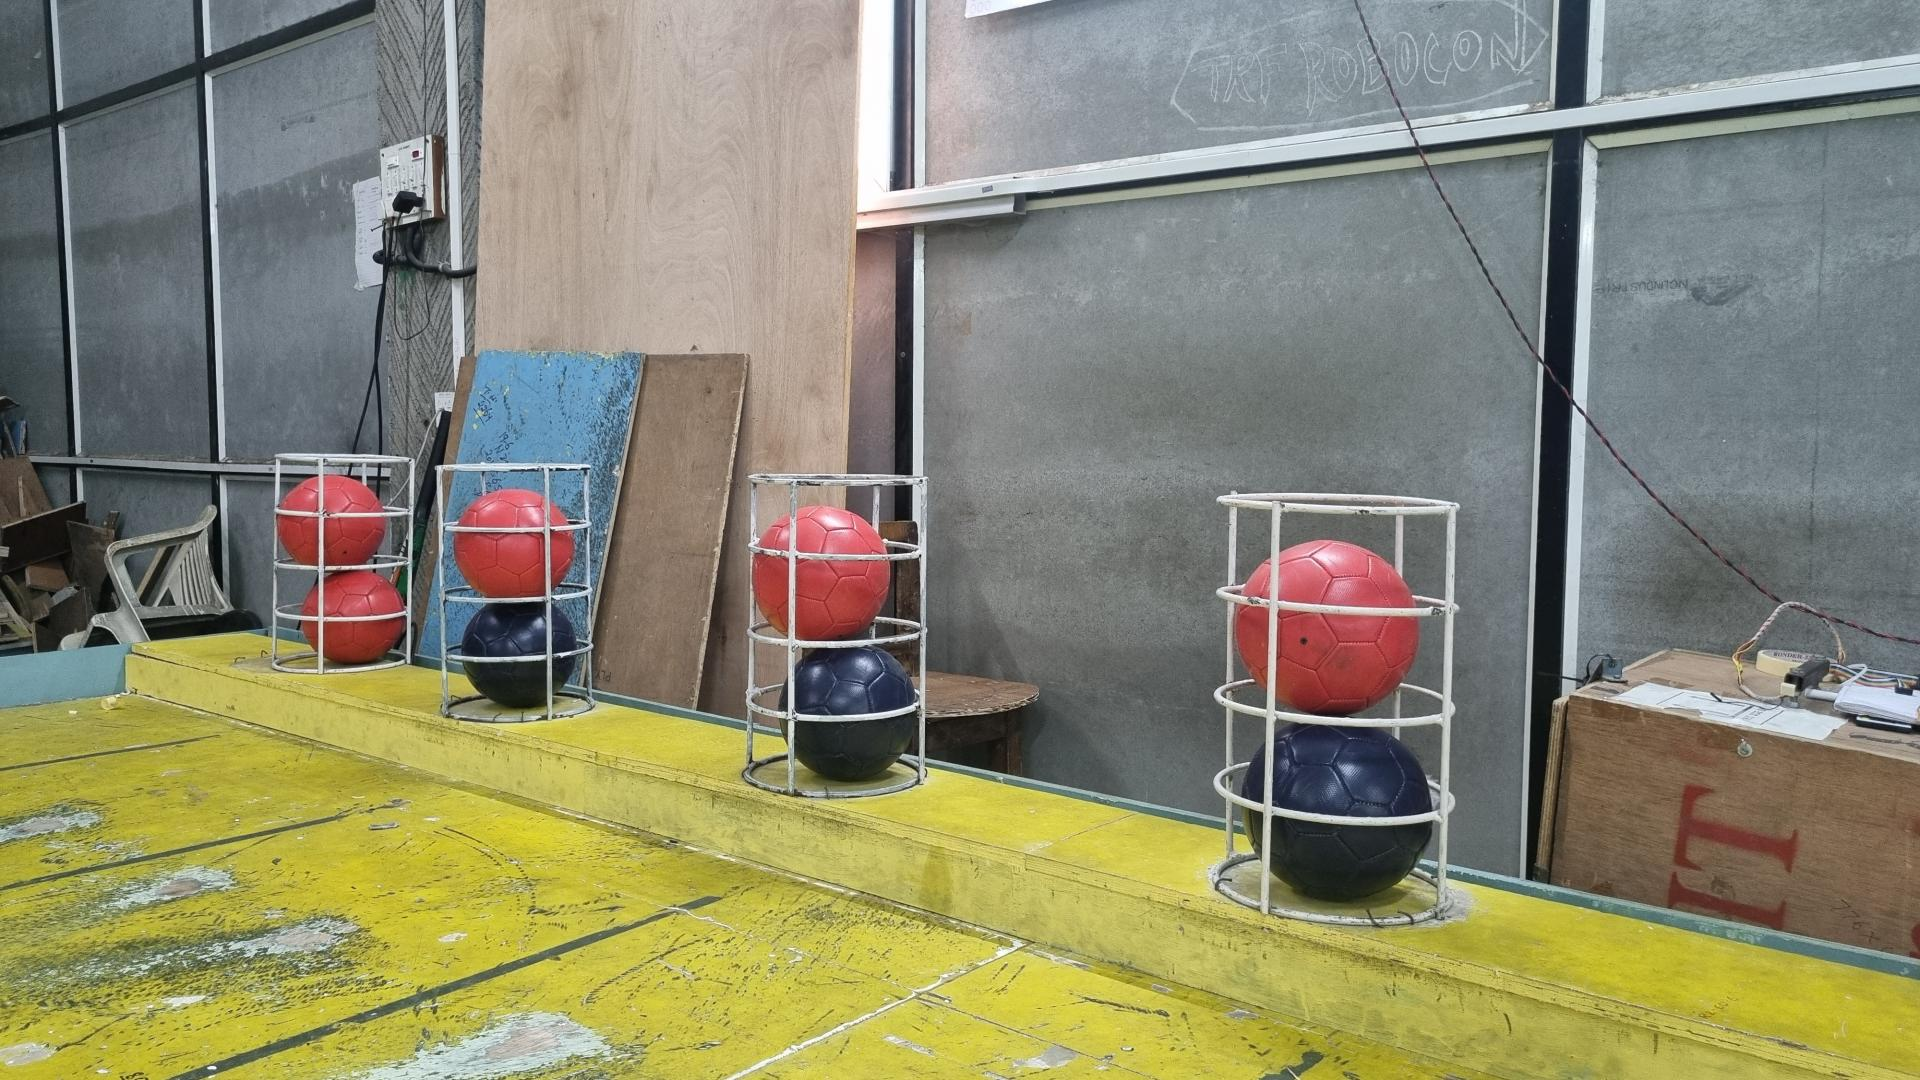dhoka: (1241, 723, 1440, 903), (781, 649, 919, 783), (462, 600, 582, 708)
laale: (1237, 539, 1422, 716), (754, 506, 893, 641), (452, 487, 576, 599), (277, 472, 386, 566), (303, 570, 409, 663)
